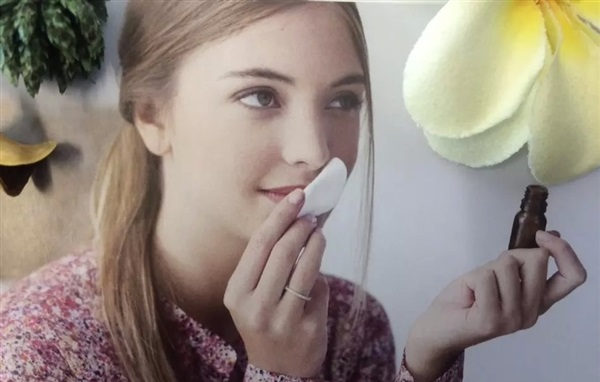face: (179, 6, 380, 251)
